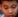without_mask: (2, 2, 18, 17)
